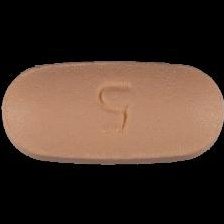55154-4617: (0, 0, 224, 224)
